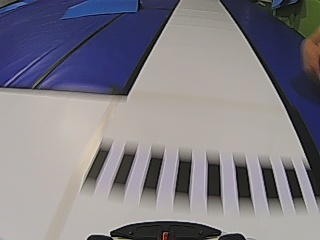CrossWalk: (84, 145, 301, 200)
